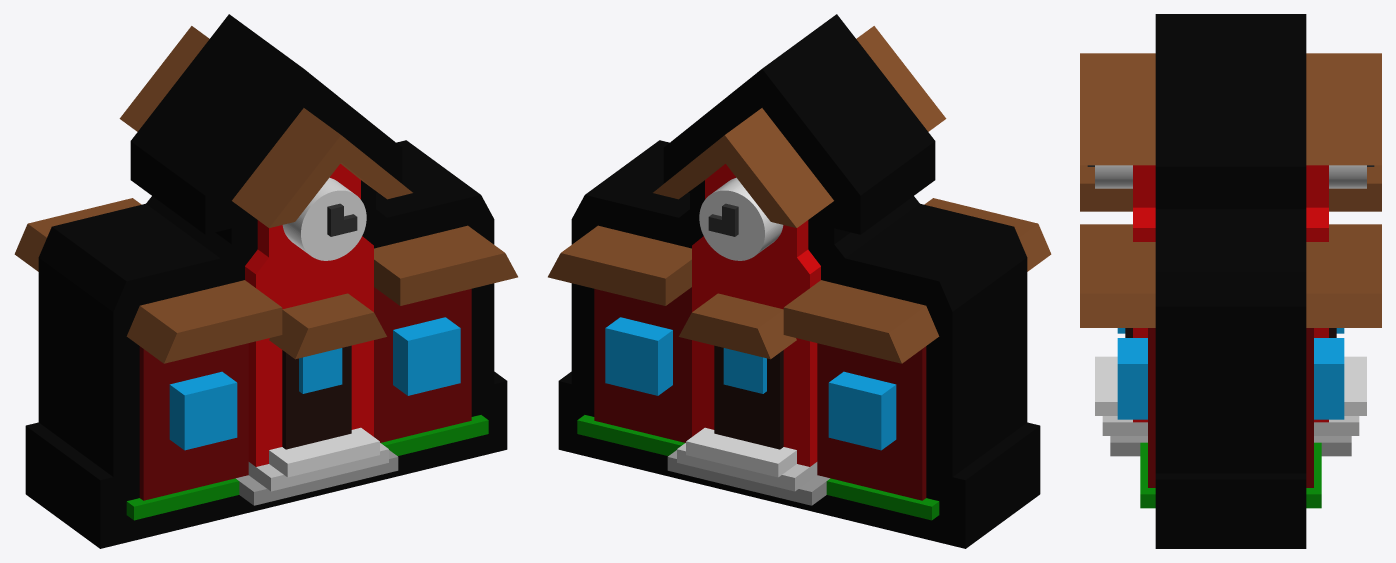
3 renders of one model, left to right at view 1: azimuth 30°, elevation 25°; view 2: azimuth 150°, elevation 25°; view 3: azimuth 270°, elevation 25°, orthographic.
Visible parts, largest first — view 1: U+1F3EB_layer00_obj00, U+1F3EB_layer10_obj00, U+1F3EB_layer01_obj00, U+1F3EB_layer03_obj00, U+1F3EB_layer05_obj00, U+1F3EB_layer08_obj00, U+1F3EB_layer04_obj00, U+1F3EB_layer02_obj00, U+1F3EB_layer06_obj00, U+1F3EB_layer07_obj00, U+1F3EB_layer09_obj00; view 2: U+1F3EB_layer00_obj00, U+1F3EB_layer10_obj00, U+1F3EB_layer01_obj00, U+1F3EB_layer03_obj00, U+1F3EB_layer05_obj00, U+1F3EB_layer08_obj00, U+1F3EB_layer04_obj00, U+1F3EB_layer02_obj00, U+1F3EB_layer06_obj00, U+1F3EB_layer07_obj00, U+1F3EB_layer09_obj00; view 3: U+1F3EB_layer00_obj00, U+1F3EB_layer10_obj00, U+1F3EB_layer05_obj00, U+1F3EB_layer08_obj00, U+1F3EB_layer03_obj00, U+1F3EB_layer01_obj00, U+1F3EB_layer07_obj00, U+1F3EB_layer02_obj00, U+1F3EB_layer06_obj00.
Part boxes in pixels (bbox=[...]): U+1F3EB_layer00_obj00: bbox=[25, 14, 507, 548]; U+1F3EB_layer10_obj00: bbox=[14, 26, 517, 363]; U+1F3EB_layer01_obj00: bbox=[139, 287, 471, 500]; U+1F3EB_layer03_obj00: bbox=[245, 164, 373, 466]; U+1F3EB_layer05_obj00: bbox=[169, 317, 460, 450]; U+1F3EB_layer08_obj00: bbox=[269, 177, 379, 477]; U+1F3EB_layer04_obj00: bbox=[282, 345, 351, 449]; U+1F3EB_layer02_obj00: bbox=[126, 415, 488, 520]; U+1F3EB_layer06_obj00: bbox=[236, 450, 398, 505]; U+1F3EB_layer07_obj00: bbox=[248, 443, 388, 491]; U+1F3EB_layer09_obj00: bbox=[327, 203, 357, 236]; U+1F3EB_layer00_obj00: bbox=[558, 14, 1040, 548]; U+1F3EB_layer10_obj00: bbox=[548, 26, 1051, 363]; U+1F3EB_layer01_obj00: bbox=[594, 287, 926, 500]; U+1F3EB_layer03_obj00: bbox=[692, 164, 820, 466]; U+1F3EB_layer05_obj00: bbox=[605, 317, 896, 450]; U+1F3EB_layer08_obj00: bbox=[686, 177, 796, 477]; U+1F3EB_layer04_obj00: bbox=[714, 345, 783, 449]; U+1F3EB_layer02_obj00: bbox=[577, 415, 939, 520]; U+1F3EB_layer06_obj00: bbox=[667, 450, 829, 505]; U+1F3EB_layer07_obj00: bbox=[677, 443, 817, 491]; U+1F3EB_layer09_obj00: bbox=[708, 203, 738, 236]; U+1F3EB_layer00_obj00: bbox=[1155, 14, 1306, 548]; U+1F3EB_layer10_obj00: bbox=[1080, 53, 1381, 327]; U+1F3EB_layer05_obj00: bbox=[1117, 328, 1344, 419]; U+1F3EB_layer08_obj00: bbox=[1095, 165, 1366, 415]; U+1F3EB_layer03_obj00: bbox=[1133, 165, 1328, 422]; U+1F3EB_layer01_obj00: bbox=[1148, 328, 1313, 487]; U+1F3EB_layer07_obj00: bbox=[1102, 416, 1359, 435]; U+1F3EB_layer02_obj00: bbox=[1140, 442, 1321, 508]; U+1F3EB_layer06_obj00: bbox=[1110, 436, 1351, 456].
Size of the model in its own units: 0.6288 by 0.6354 by 0.4.
